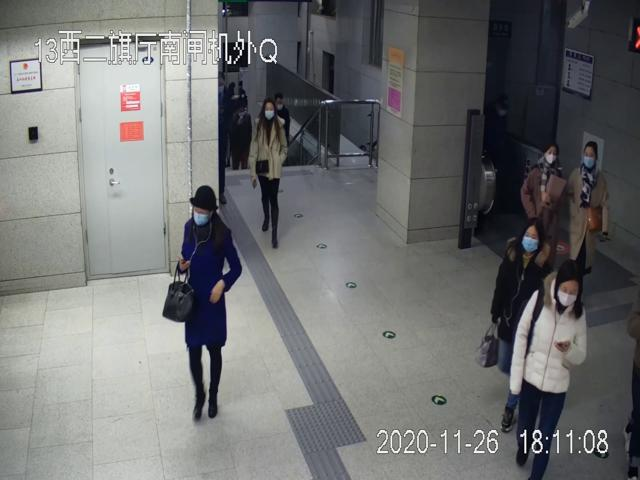person: (509, 258, 586, 479), (178, 184, 241, 422), (490, 219, 552, 434), (249, 98, 288, 249), (565, 141, 609, 265), (520, 140, 564, 249)
